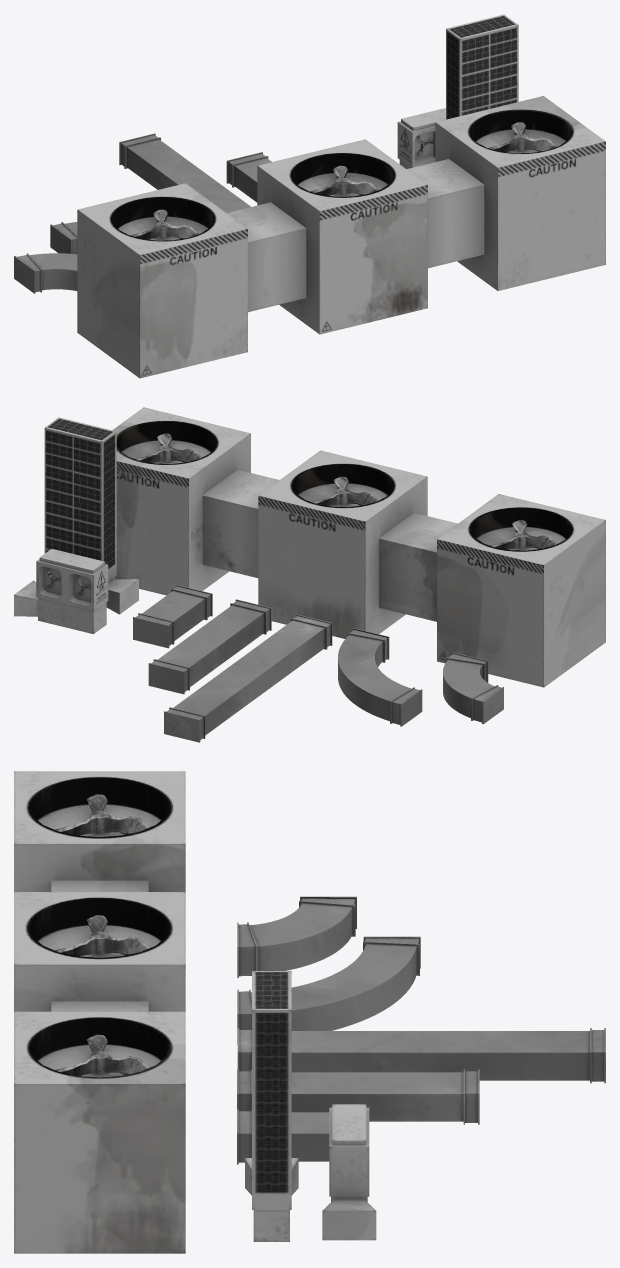
The model's file is roof_kit.glb.
The picture shows the model from 3 angles, top to bottom: view 1: azimuth 30°, elevation 25°; view 2: azimuth 150°, elevation 25°; view 3: azimuth 270°, elevation 25°; orthographic projection. The views are drawn at different scales.
Parts seen in each view (by area): view 1: baked; view 2: baked; view 3: baked.
Boxes of the visible parts, x1,y1,x2,y2 form: baked: [14, 14, 605, 378]; baked: [14, 407, 605, 742]; baked: [14, 771, 605, 1253].
Bounding box in the file's own units: 32.92 × 11.89 × 26.26.
1 material, 1 textured.
